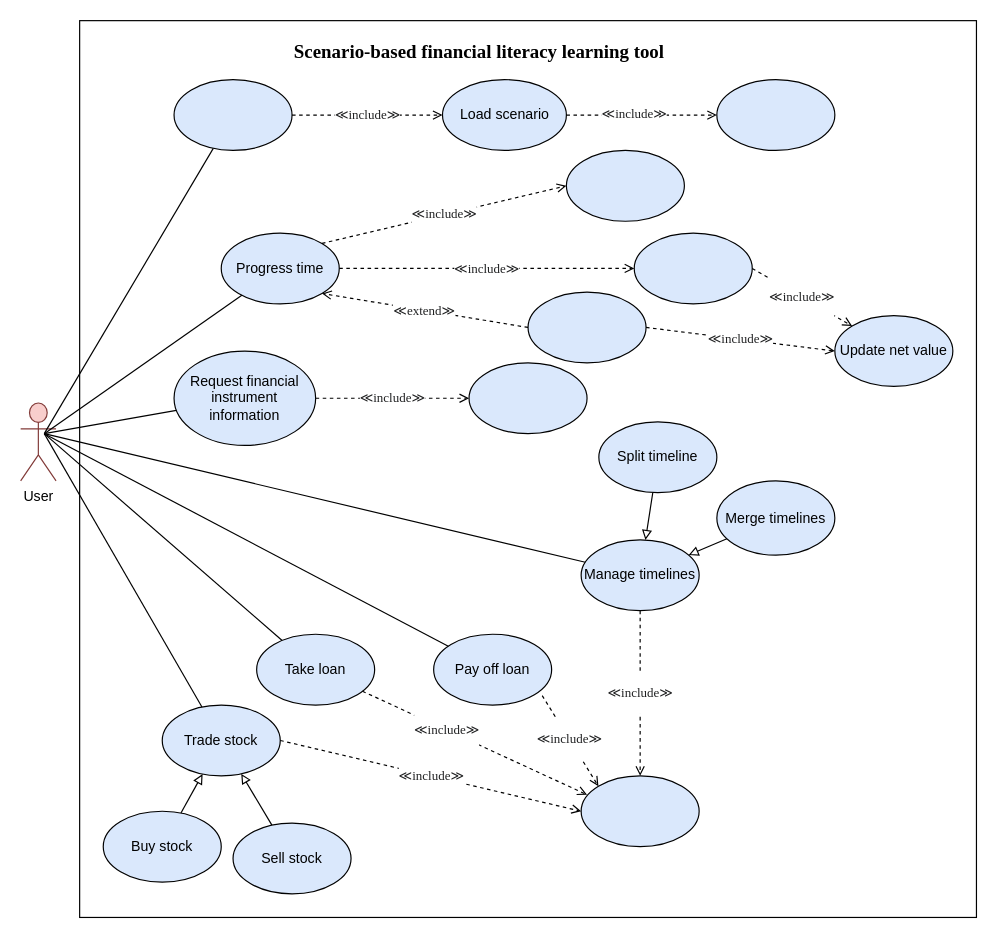
This 997x938 diagram has some shape labels left out. The centre of each missing label's shape, as x and y in pixels:
Display graph: point (527, 398)
Display scenario information: point (775, 114)
Start scenario: point (232, 114)
Update general display: point (624, 185)
Update loan: point (586, 327)
Update prices: point (692, 268)
Update timeline display: point (639, 811)
